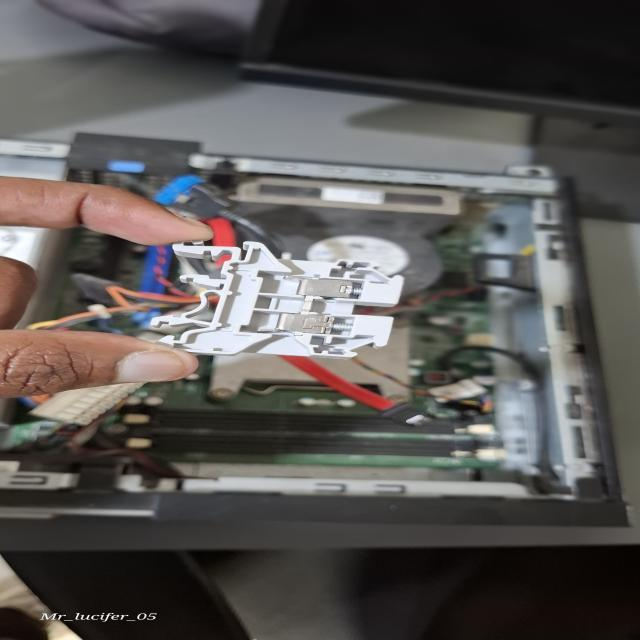Pass: (159, 238, 404, 358)
